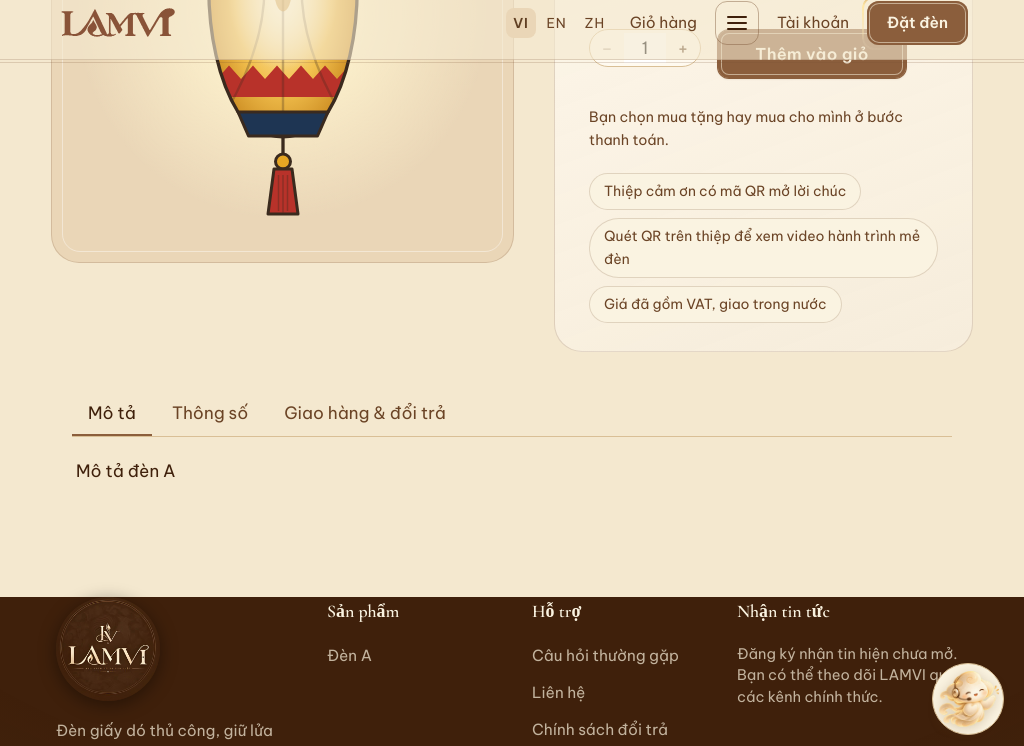
Test: Tab thông tin sản phẩm › tab Thông số liệt kê các mục có dữ liệu theo thứ tự cố định
(page scrolled)
Click the tab "Thông số". click: (210, 414)
box: [156, 392, 264, 436]
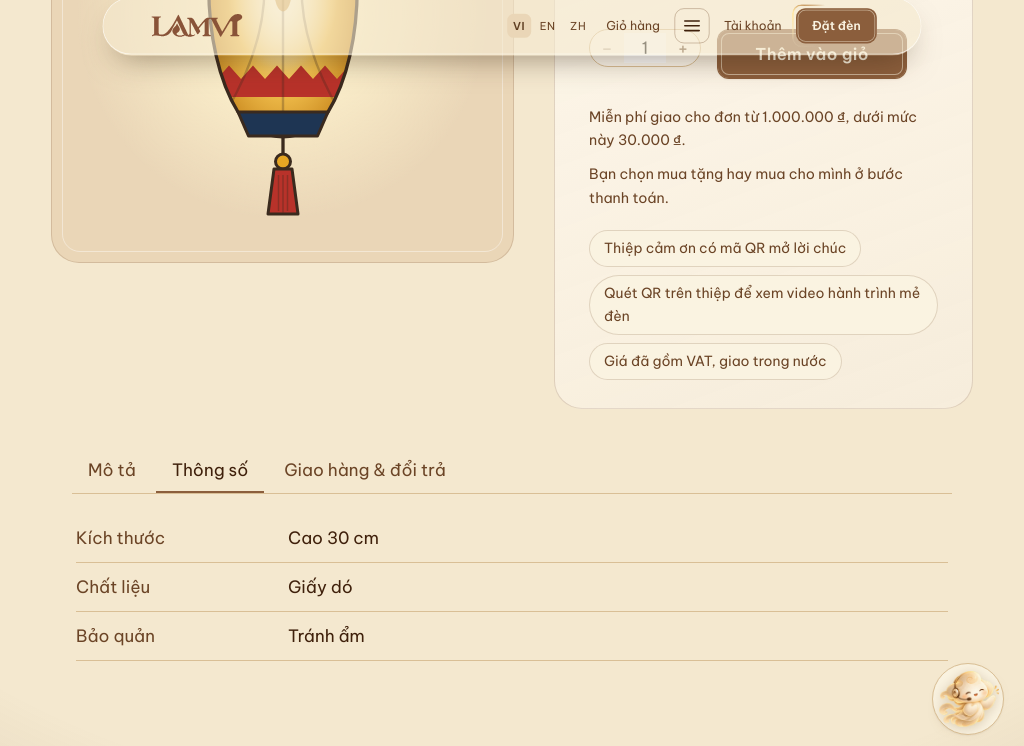
Check: the panel shows "Cao 30 cm", box [288, 527, 379, 549]
